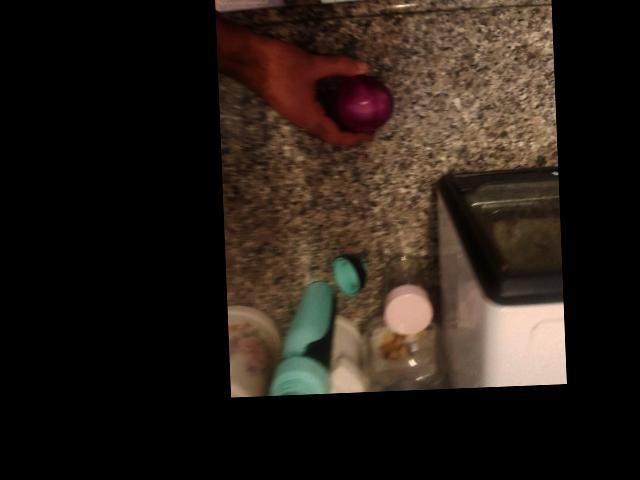onion: (471, 163, 540, 225)
